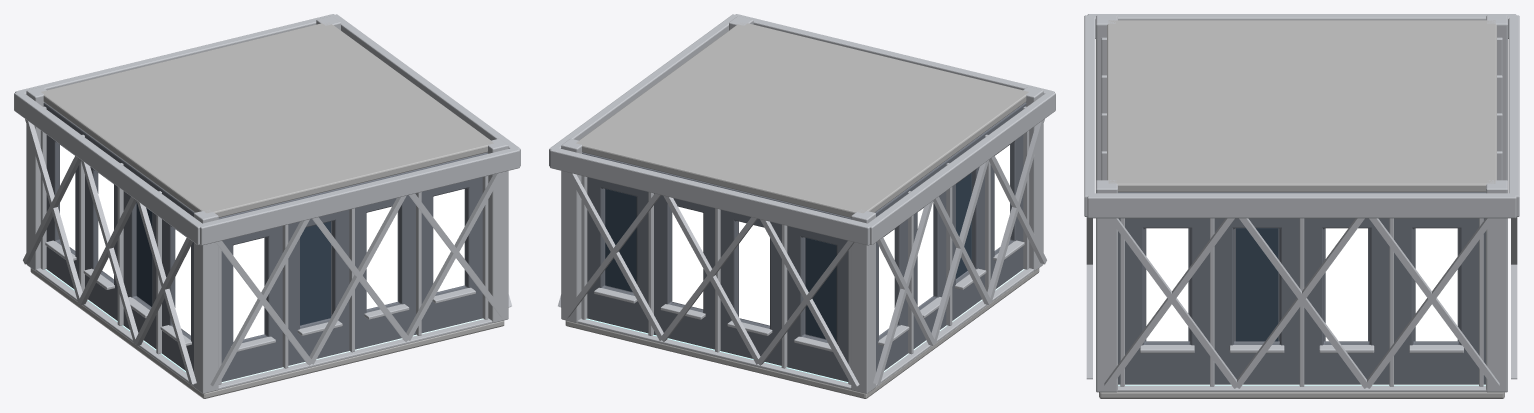
File: exo_5x5.glb
3 views of the same model, side by side, from view 1: azimuth 30°, elevation 25°; view 2: azimuth 150°, elevation 25°; view 3: azimuth 270°, elevation 25° (orthographic). The views are drawn at different scales.
Visible parts, largest first — view 1: int_ceiling, ext_wall, ext_panes_lit, int_columns, ext_frames, ext_truss3, ext_truss2, ext_panes_dark, int_slab_edge, int_slab, ext_truss0, ext_truss1 (+13 smaller); view 2: int_ceiling, ext_wall, ext_panes_lit, int_columns, ext_frames, ext_truss1, ext_panes_dark, ext_truss2, int_slab_edge, int_slab, ext_truss0, ext_truss3 (+13 smaller); view 3: int_ceiling, ext_wall, ext_panes_lit, ext_truss0, int_columns, ext_frames, ext_panes_dark, int_slab, ext_truss2, int_slab_edge, ext_truss1, ext_truss3 (+9 smaller).
Boxes of the visible parts, <box> form: int_ceiling: <box>41,23,493,217</box>; ext_wall: <box>43,102,487,381</box>; ext_panes_lit: <box>60,145,464,341</box>; int_columns: <box>26,16,508,393</box>; ext_frames: <box>40,106,488,384</box>; ext_truss3: <box>199,148,519,245</box>; ext_truss2: <box>14,91,202,244</box>; ext_panes_dark: <box>136,202,330,325</box>; int_slab_edge: <box>36,268,492,389</box>; int_slab: <box>30,268,504,398</box>; ext_truss0: <box>331,14,520,166</box>; ext_truss1: <box>15,14,334,93</box>; int_ceiling: <box>576,23,1028,217</box>; ext_wall: <box>582,102,1026,381</box>; ext_panes_lit: <box>672,145,1009,335</box>; int_columns: <box>561,16,1043,393</box>; ext_frames: <box>581,106,1029,384</box>; ext_truss1: <box>550,148,871,245</box>; ext_panes_dark: <box>605,173,971,341</box>; ext_truss2: <box>868,91,1055,244</box>; int_slab_edge: <box>577,268,1033,389</box>; int_slab: <box>565,268,1039,398</box>; ext_truss0: <box>549,14,738,166</box>; ext_truss3: <box>735,14,1054,93</box>; int_ceiling: <box>1107,20,1496,192</box>; ext_wall: <box>1118,192,1485,384</box>; ext_panes_lit: <box>1146,228,1457,341</box>; ext_truss0: <box>1087,193,1516,218</box>; int_columns: <box>1096,15,1507,392</box>; ext_frames: <box>1101,37,1502,386</box>; ext_panes_dark: <box>1236,228,1278,341</box>; int_slab: <box>1099,392,1504,398</box>; ext_truss2: <box>1087,14,1516,38</box>; int_slab_edge: <box>1117,385,1486,391</box>; ext_truss1: <box>1508,15,1519,216</box>; ext_truss3: <box>1084,15,1095,216</box>.
Size of the model in its own units: 5.58 by 3 by 5.58.
